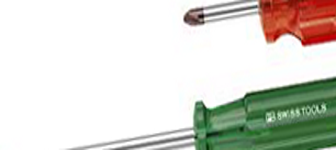Screwdriver: (55, 70, 336, 150), (165, 1, 336, 51)
